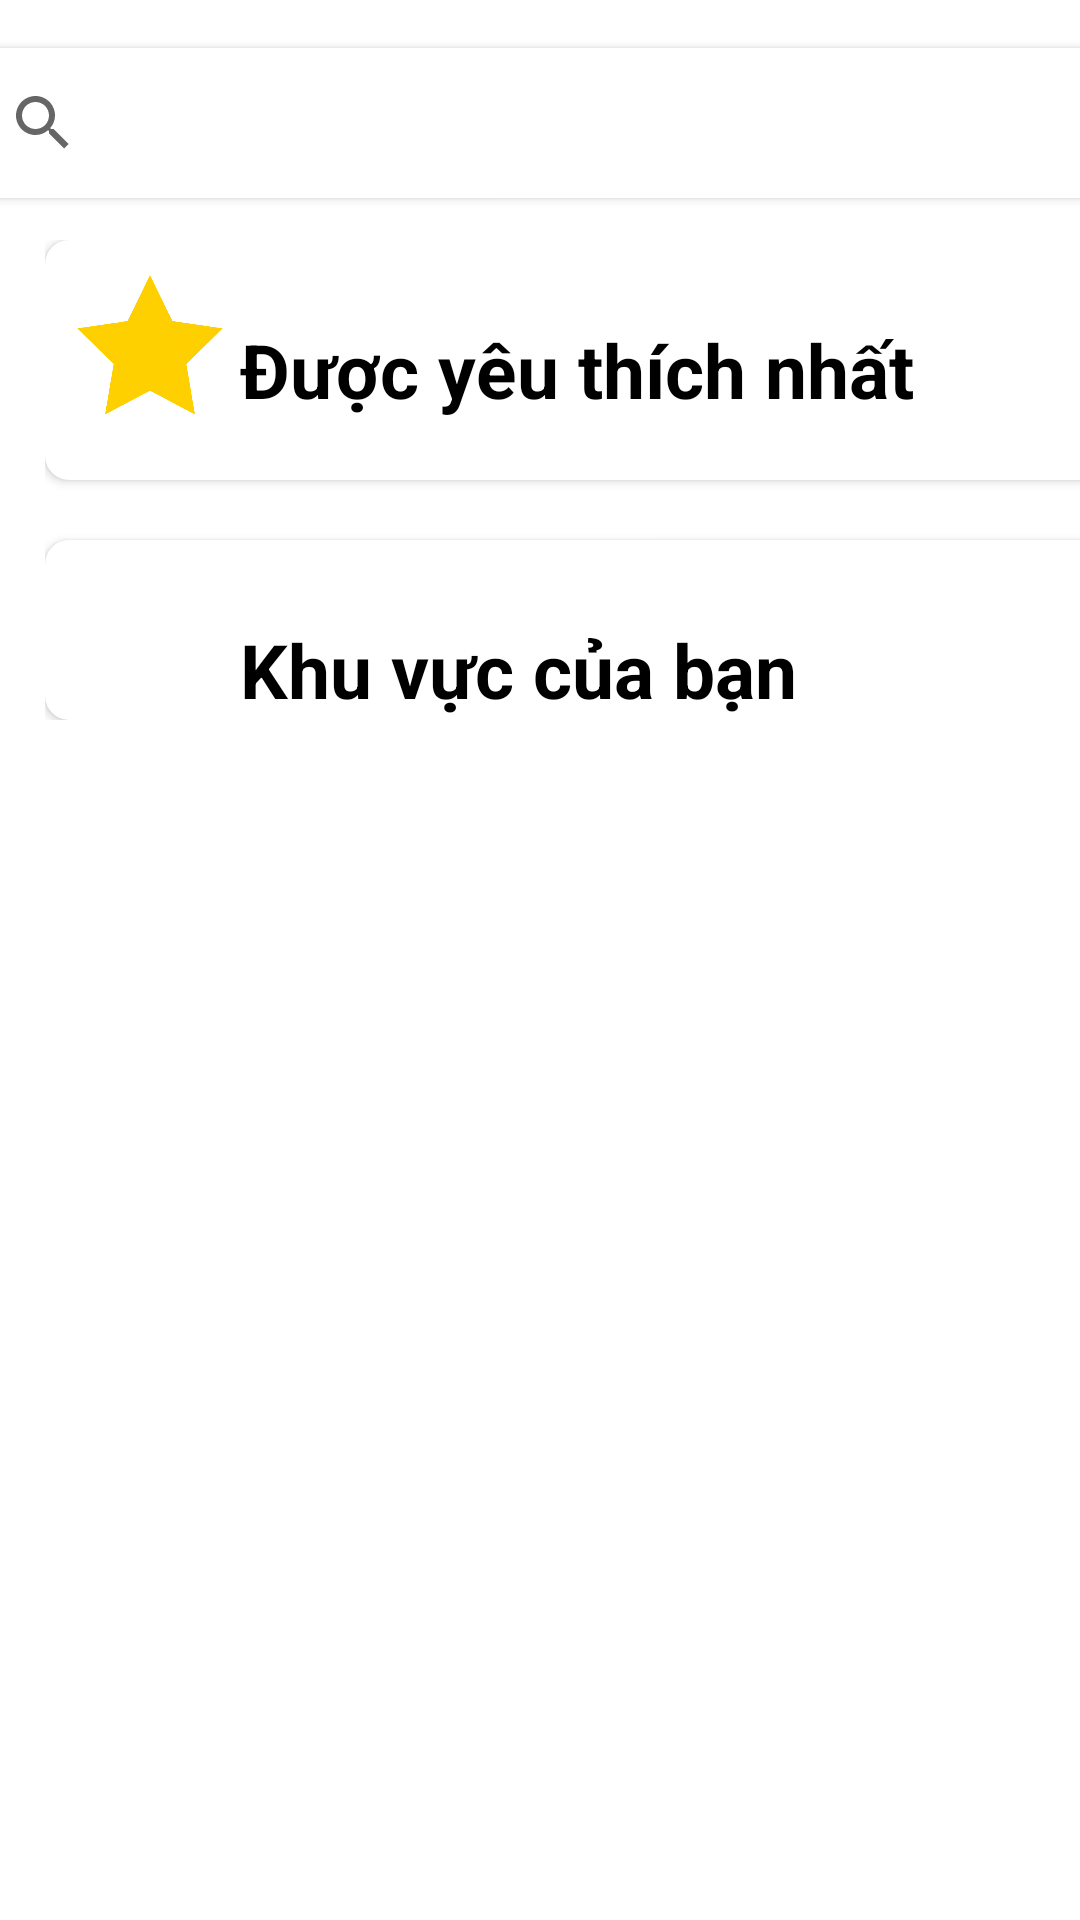

Locate icon controls on the screen. Image size 1080 x 1920, boxes as box(x1, y1, x2, y2).
star: box(77, 276, 223, 414)
